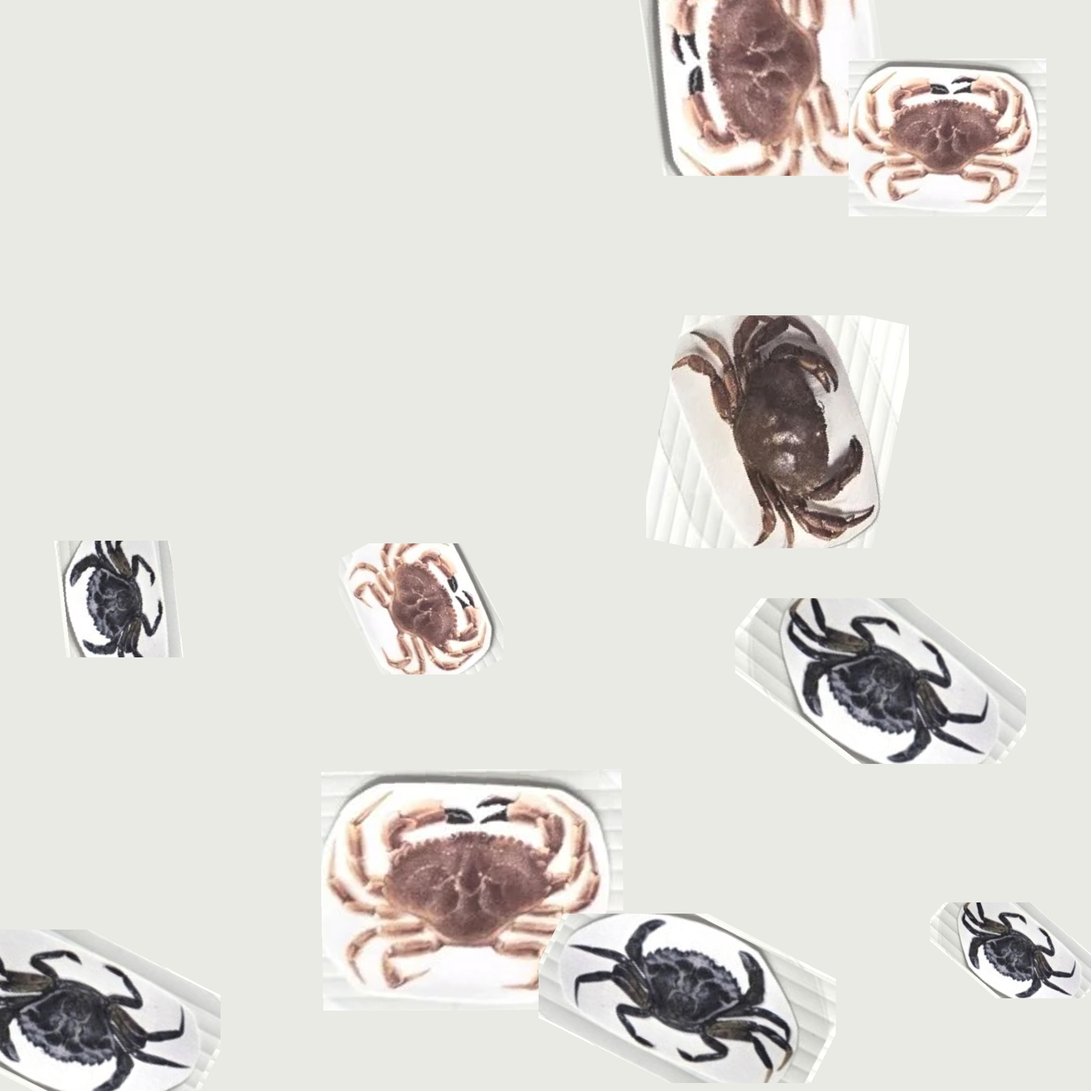evil: (752, 583, 1018, 811), (578, 912, 802, 1071), (8, 951, 194, 1083), (59, 533, 179, 682), (934, 900, 1069, 1012)
normal: (665, 286, 951, 550), (342, 774, 589, 990), (645, 11, 855, 182), (867, 65, 1043, 208), (339, 527, 488, 670)
